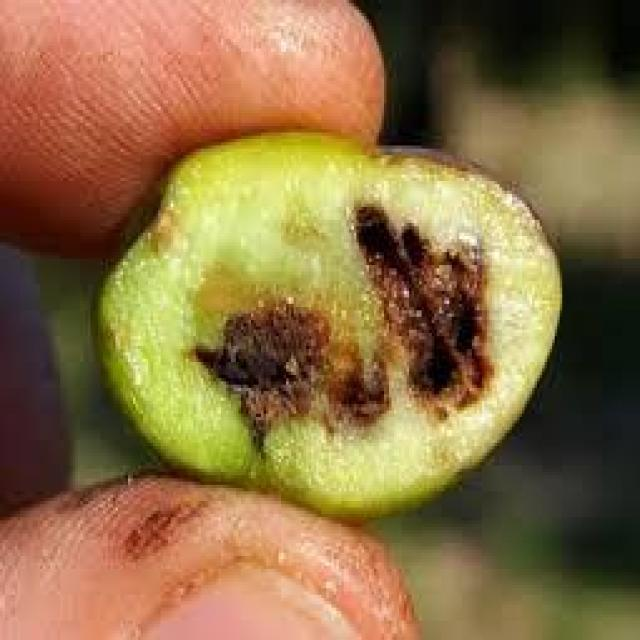Anthracnose: (98, 132, 560, 514)
